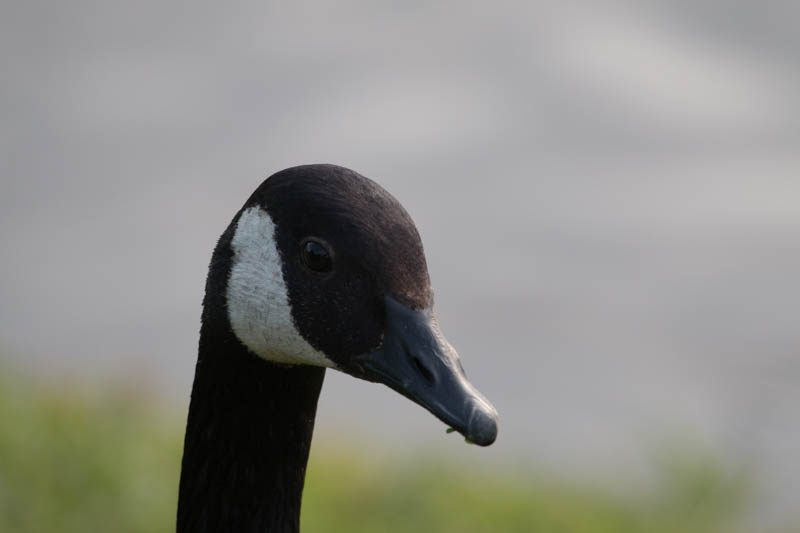goose-head: (204, 163, 498, 447)
